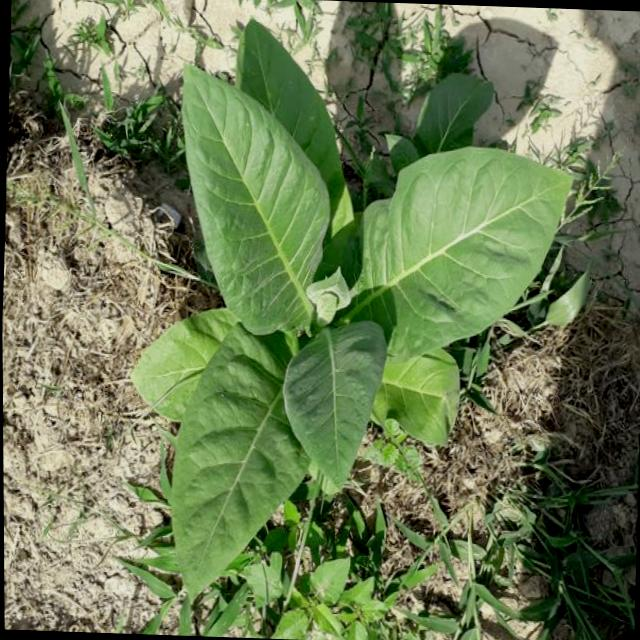Larvae: (132, 23, 570, 592)
